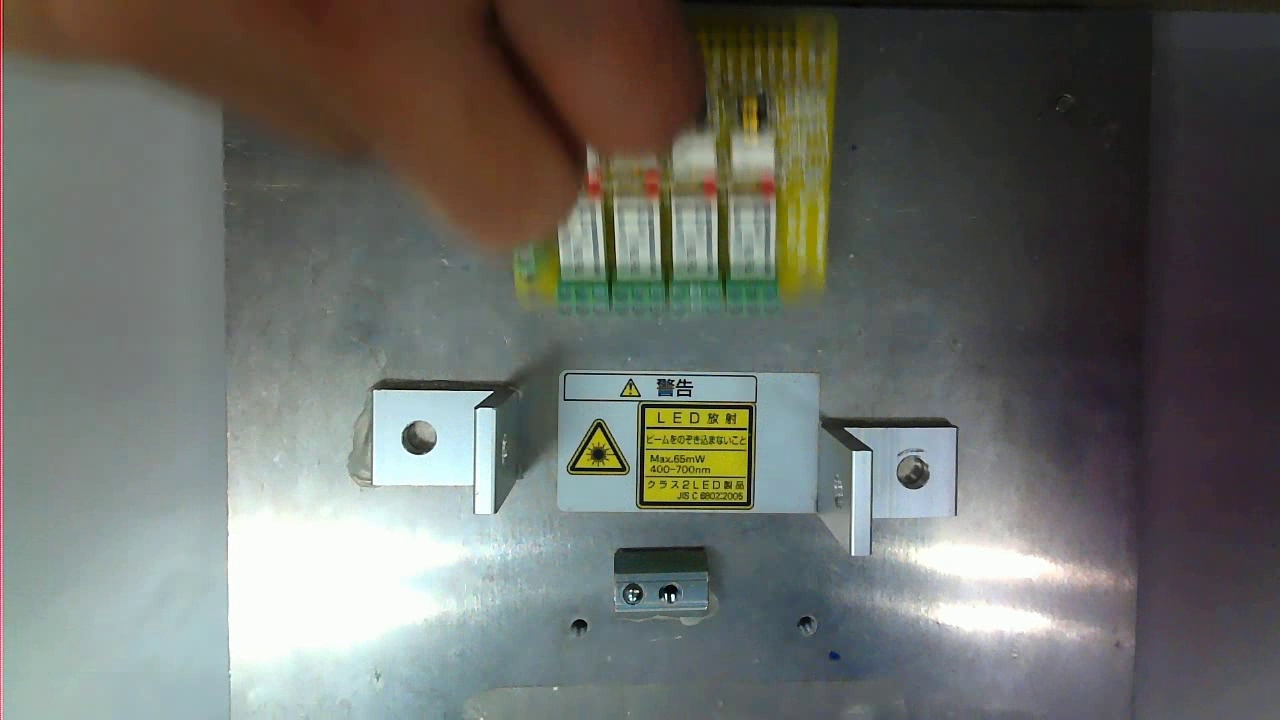can: (489, 5, 836, 318), (629, 402, 762, 517)
